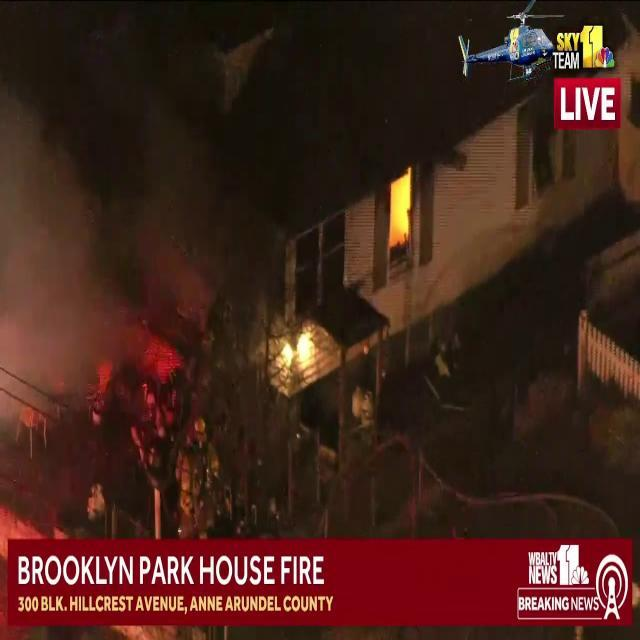Fire: (276, 318, 318, 378), (388, 161, 414, 252)
Smoke: (0, 62, 268, 416)
